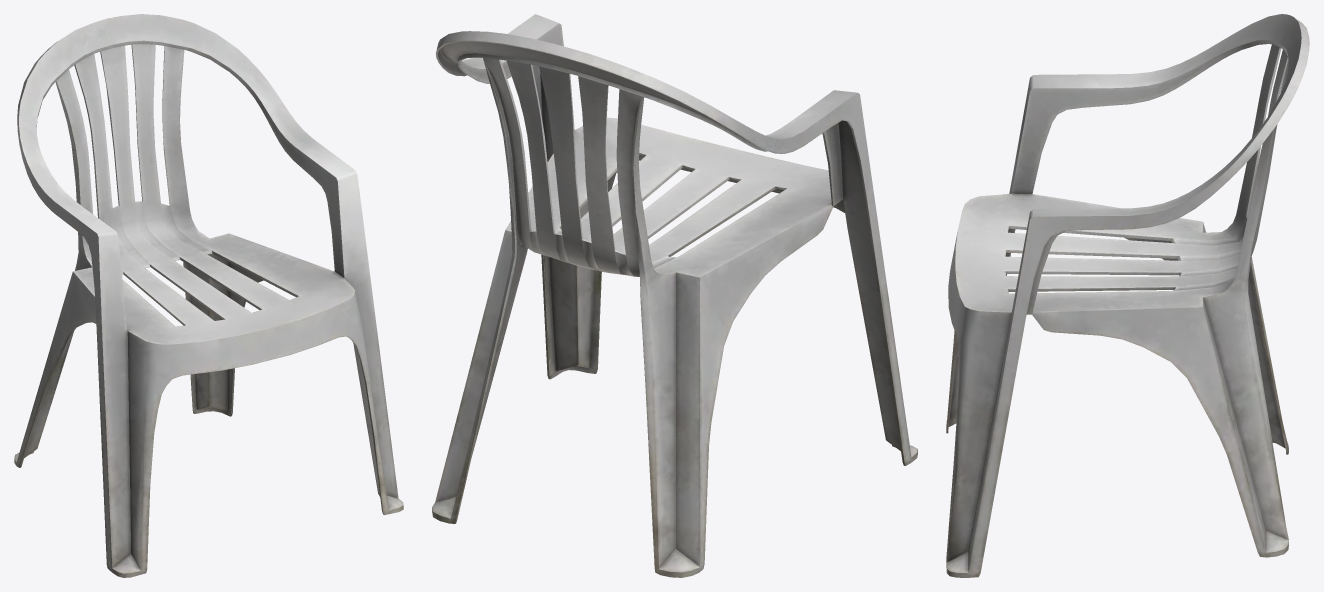
Rendered from chairPlastic.glb.
3 views of the same model, side by side, from view 1: azimuth 30°, elevation 25°; view 2: azimuth 150°, elevation 25°; view 3: azimuth 270°, elevation 25° (orthographic). The views are drawn at different scales.
Parts seen in each view (by area): view 1: plastic_monobloc_chair_01; view 2: plastic_monobloc_chair_01; view 3: plastic_monobloc_chair_01.
Part boxes in pixels (<box>): plastic_monobloc_chair_01: <box>14,14,403,577</box>; plastic_monobloc_chair_01: <box>432,14,917,577</box>; plastic_monobloc_chair_01: <box>946,14,1309,577</box>.
Size of the model in its own units: 0.6418 by 0.8798 by 0.6276.
1 material, 1 textured.
